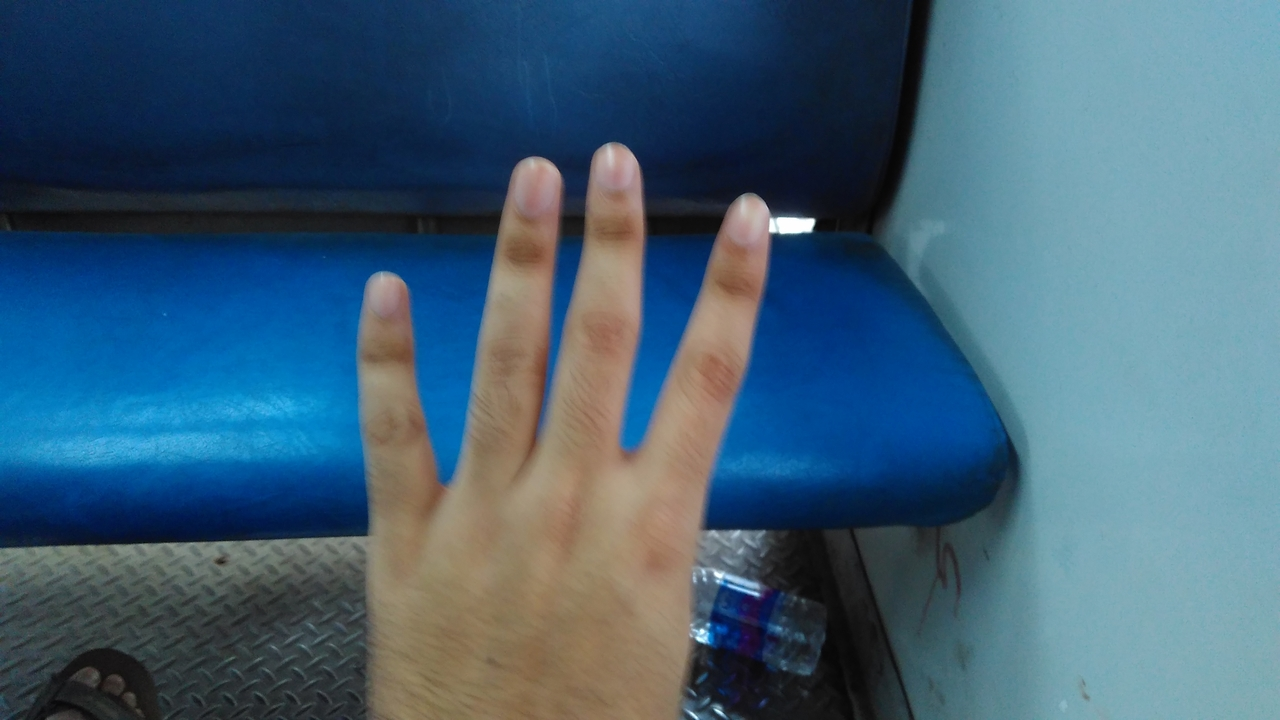fingertip: (488, 150, 568, 220), (574, 136, 646, 198), (710, 186, 780, 248), (346, 266, 416, 328)
